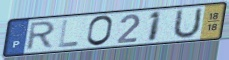1: (148, 10, 162, 43)
2: (115, 13, 142, 45)
L: (57, 19, 80, 49)
O: (85, 14, 115, 48)
R: (24, 20, 58, 52)
U: (171, 6, 205, 40)
